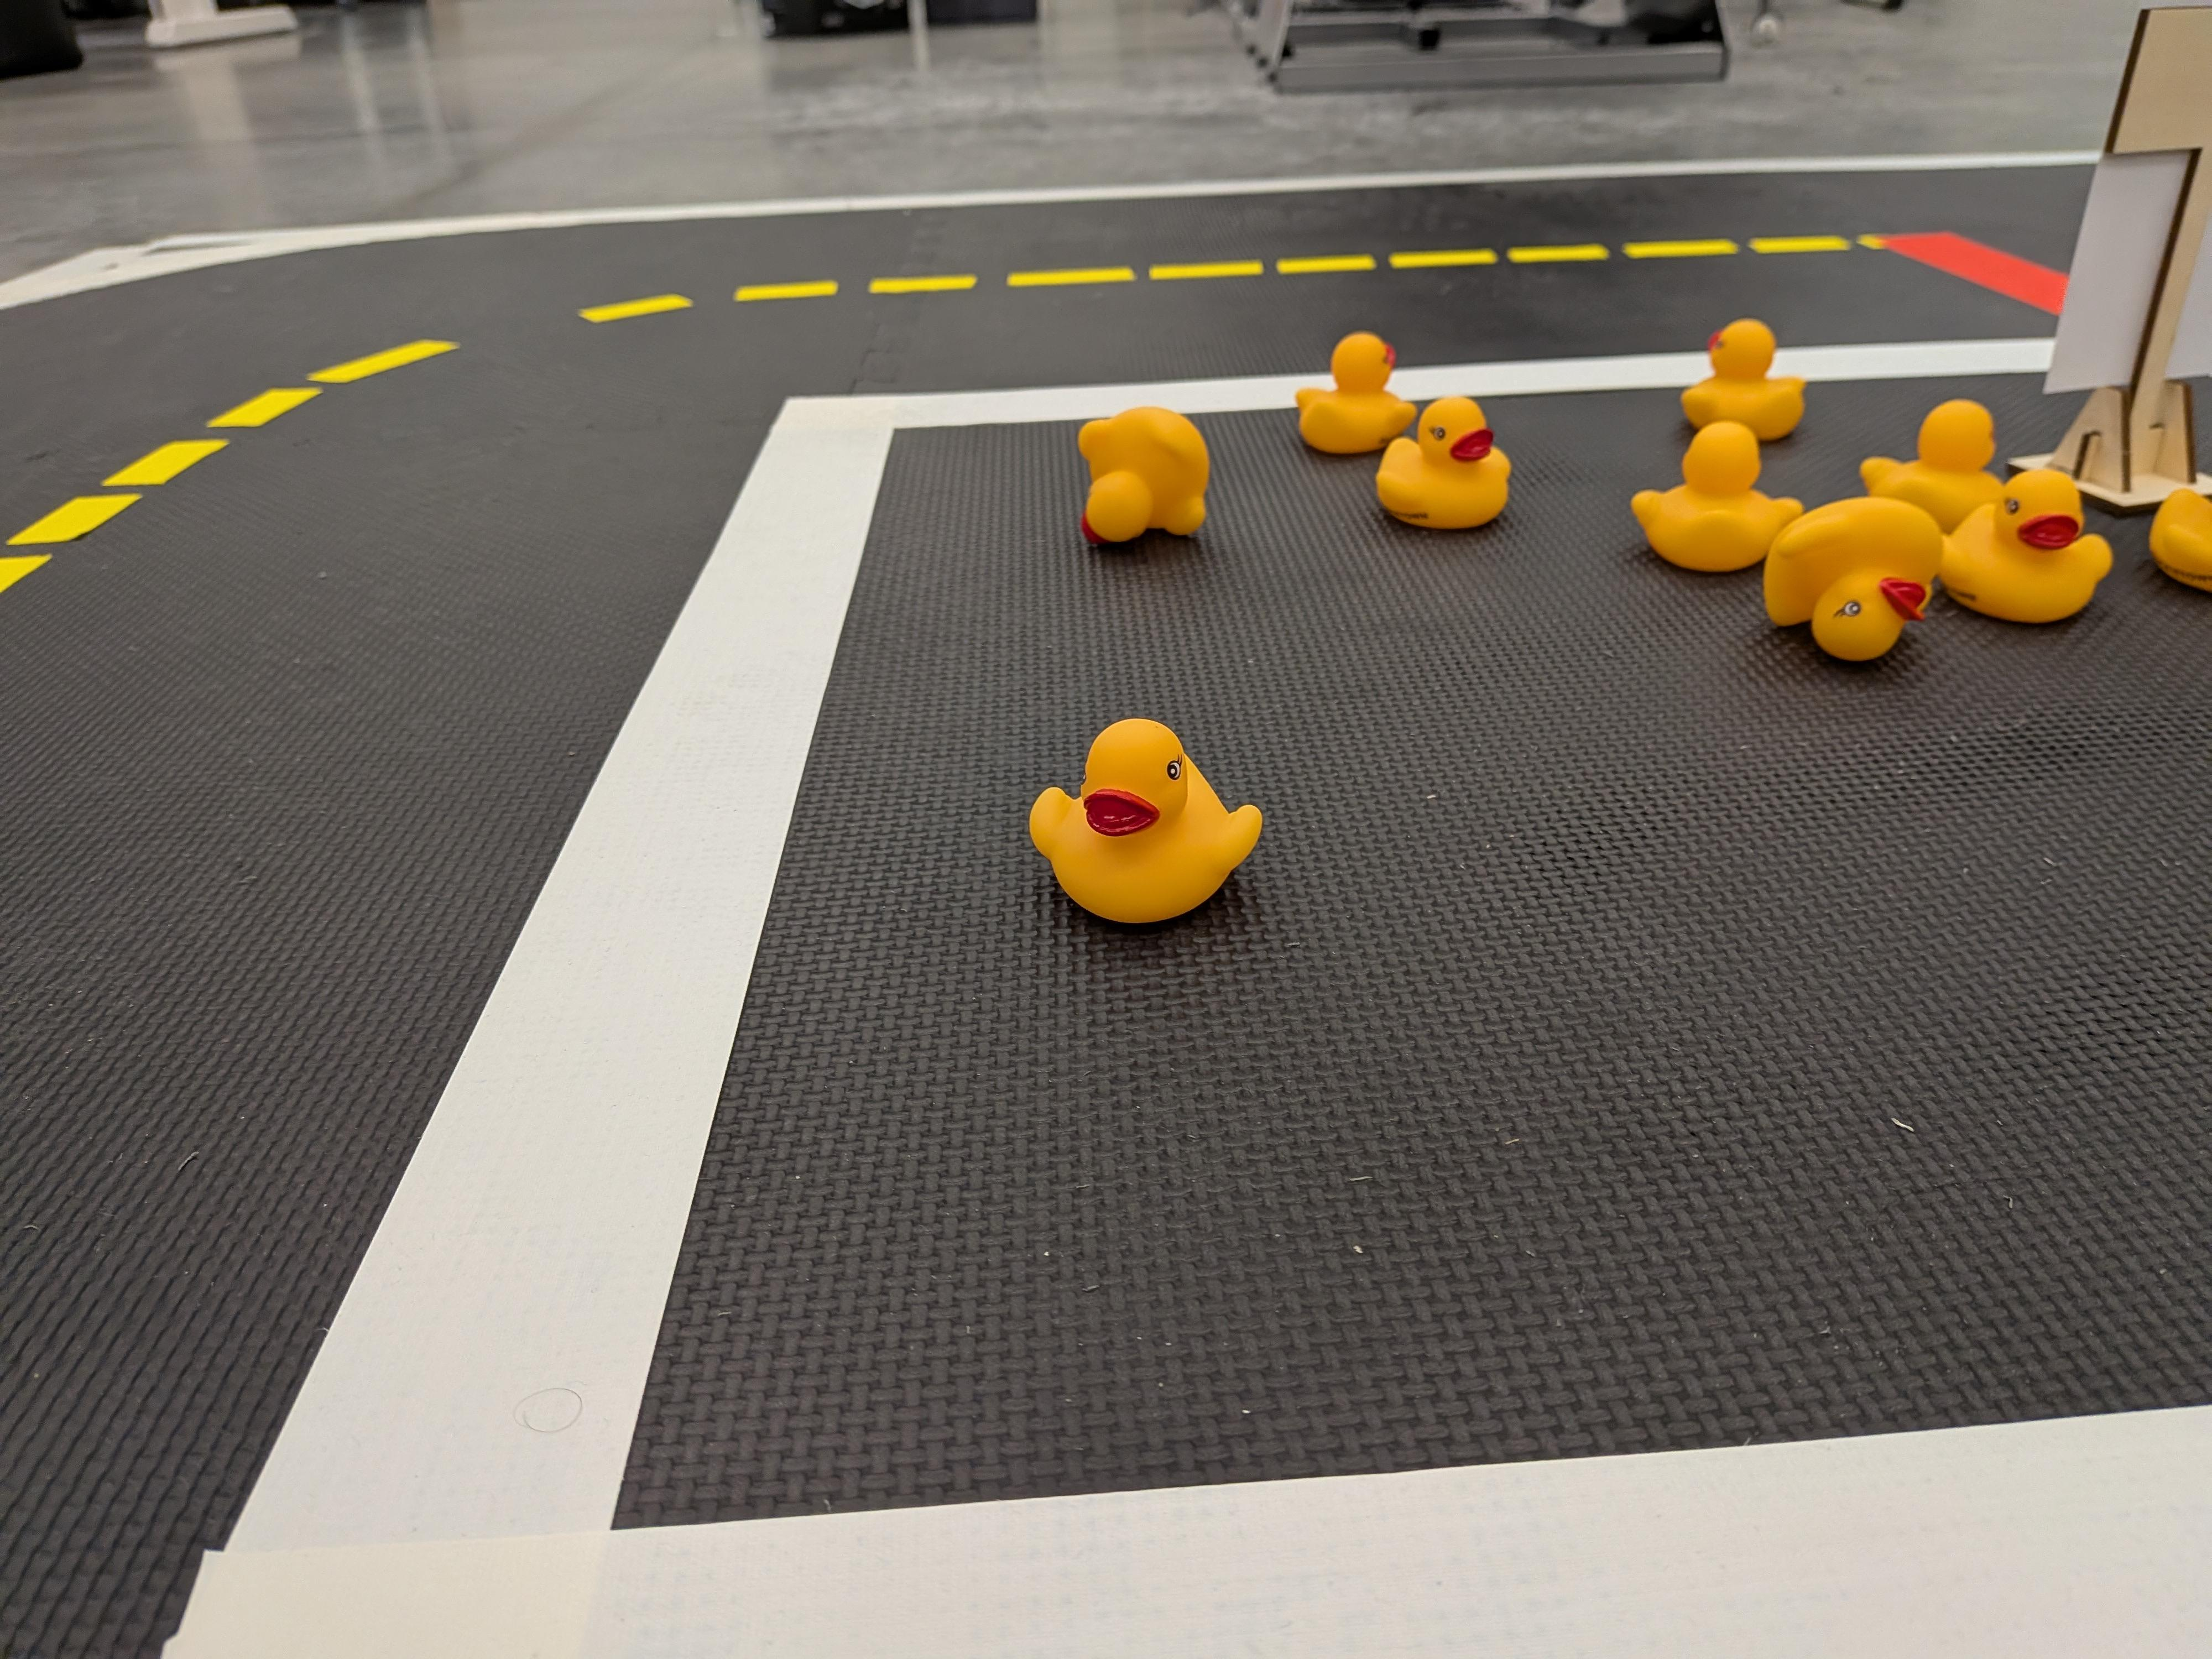peasant: (1033, 721, 1266, 934), (1761, 497, 1952, 678), (1930, 469, 2114, 641), (1366, 390, 1540, 554), (1637, 418, 1803, 584), (1071, 401, 1212, 565), (1858, 394, 2012, 540), (1291, 321, 1421, 471), (1670, 326, 1822, 444), (2148, 474, 2212, 660)
stopbar: (1869, 228, 2067, 317)
whiteline: (150, 390, 897, 1659), (157, 1399, 2207, 1659), (0, 148, 2095, 310), (813, 336, 2050, 429)
yellowline: (0, 336, 465, 596), (582, 235, 1883, 326)
